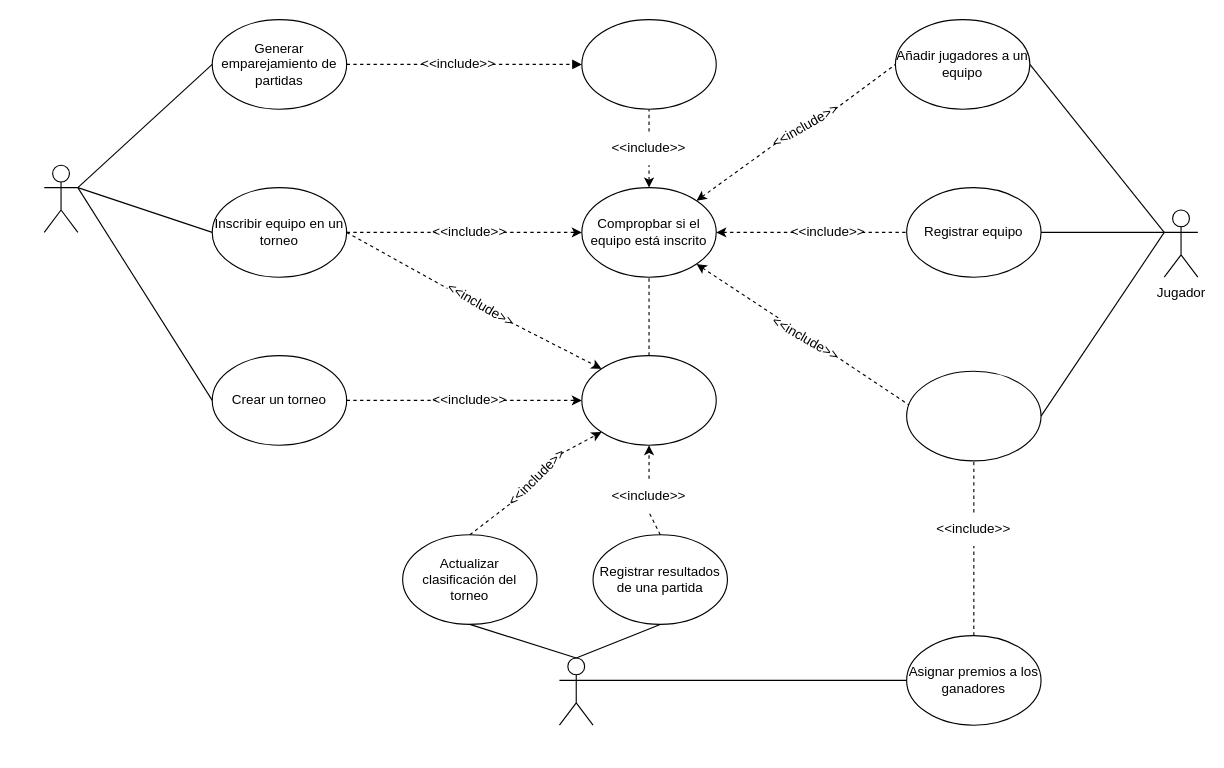
The diagram is 1224 pixels wide and 768 high, and some of its shapes have lost their labels. The centre of each missing label's shape, as x and y in pixels:
Administrador: the point at 60,198
Comprobar existencia del torneo: the point at 648,399
Comprobar si el quipo está libre: the point at 648,63
Consultar lista de equipos y jugadores: the point at 973,415
Sistema: the point at 575,691
